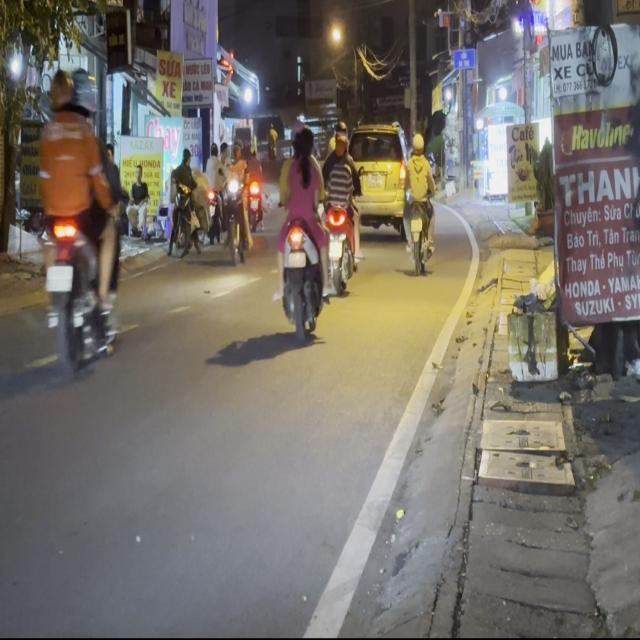helmet: (72, 65, 98, 121), (48, 67, 76, 116)
licenseplate: (35, 64, 124, 379), (273, 115, 326, 342)
motorcyclist: (297, 127, 315, 158)
nohelmet: (46, 264, 72, 291), (286, 250, 304, 267)
